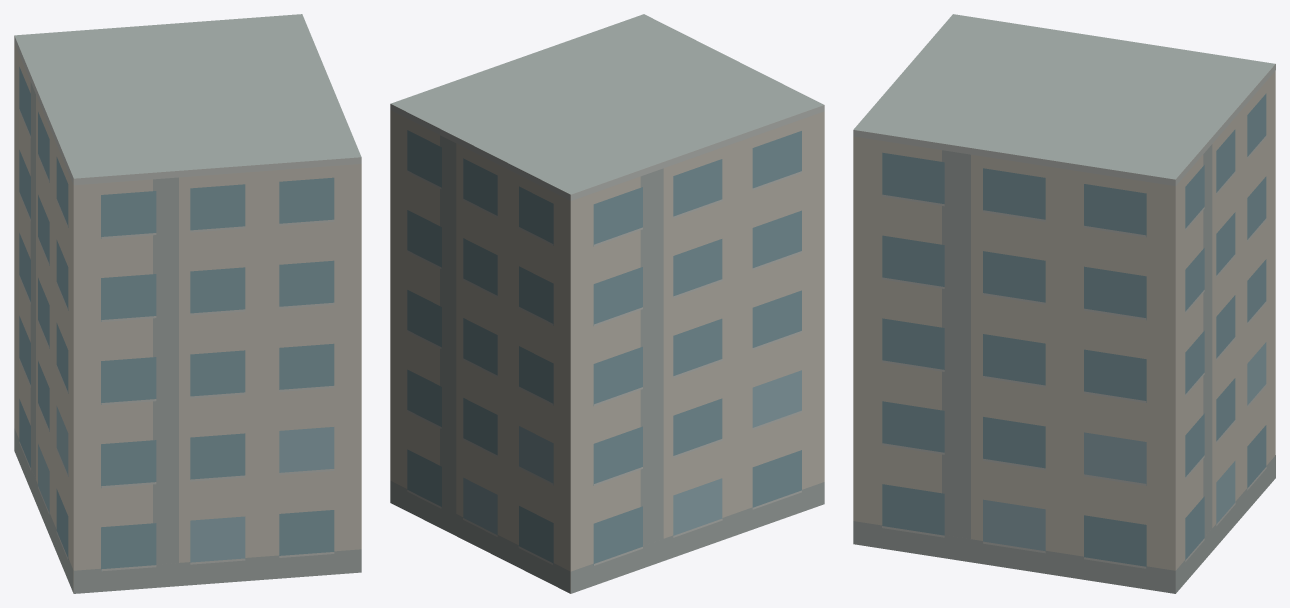
Rendered from residential-df1e77b0-1da7-4717-8662-f9e355420efe.glb.
3 views of the same model, side by side, from view 1: azimuth 30°, elevation 25°; view 2: azimuth 150°, elevation 25°; view 3: azimuth 270°, elevation 25° (orthographic). The views are drawn at different scales.
Visible parts, largest first — view 1: residential-df1e77b0-1da7-4717-8662-f9e355420efe.tmp; view 2: residential-df1e77b0-1da7-4717-8662-f9e355420efe.tmp; view 3: residential-df1e77b0-1da7-4717-8662-f9e355420efe.tmp.
Part boxes in pixels (x1,y1,x2,y2): residential-df1e77b0-1da7-4717-8662-f9e355420efe.tmp: [14, 14, 361, 593]; residential-df1e77b0-1da7-4717-8662-f9e355420efe.tmp: [390, 14, 824, 593]; residential-df1e77b0-1da7-4717-8662-f9e355420efe.tmp: [853, 14, 1275, 593].
Size of the model in its own units: 13.08 by 15.25 by 14.1.
